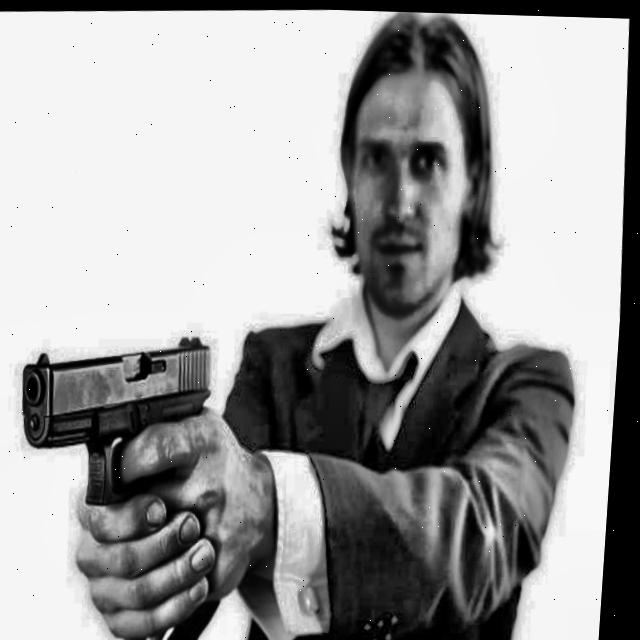pistol: (6, 327, 219, 595)
